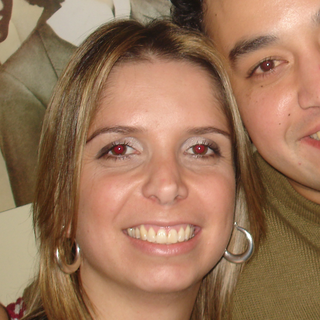eye: (237, 53, 292, 82), (94, 138, 143, 163), (179, 135, 221, 164)
